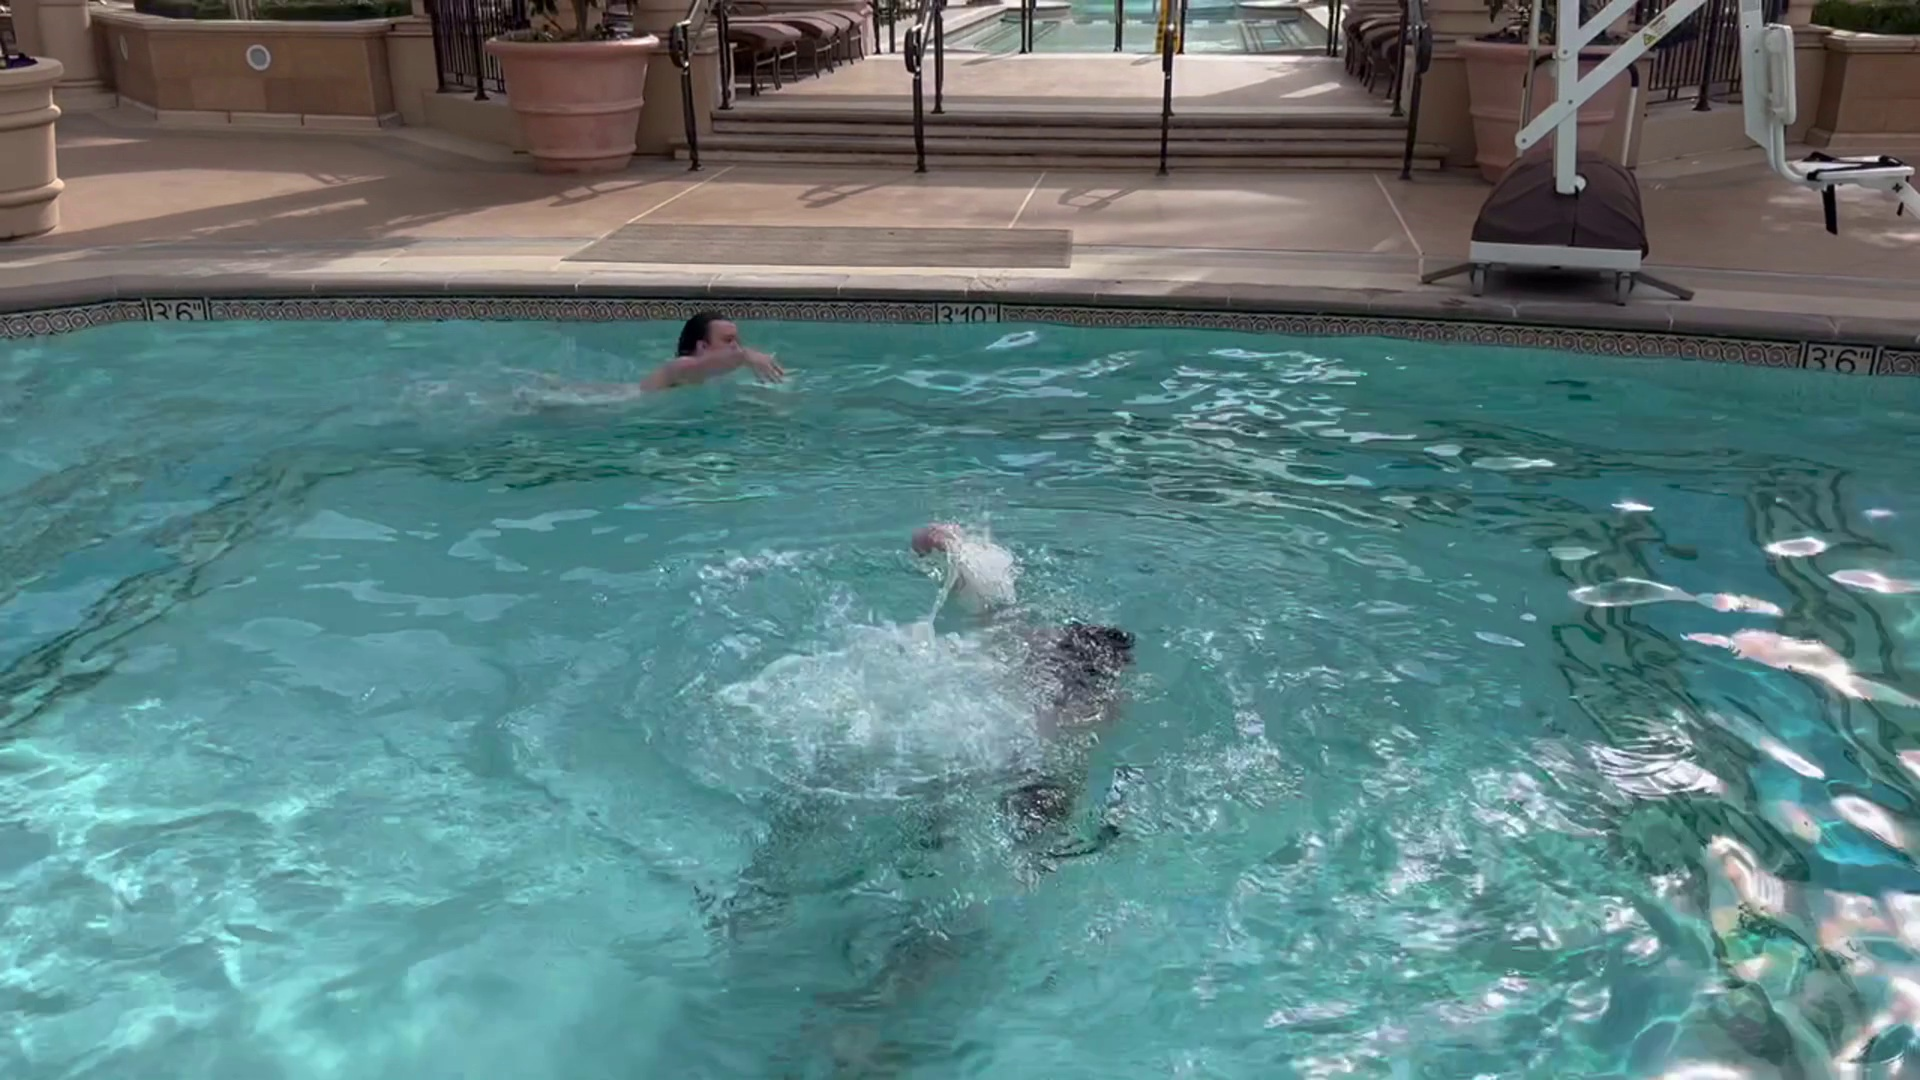danger: (684, 477, 1226, 827)
